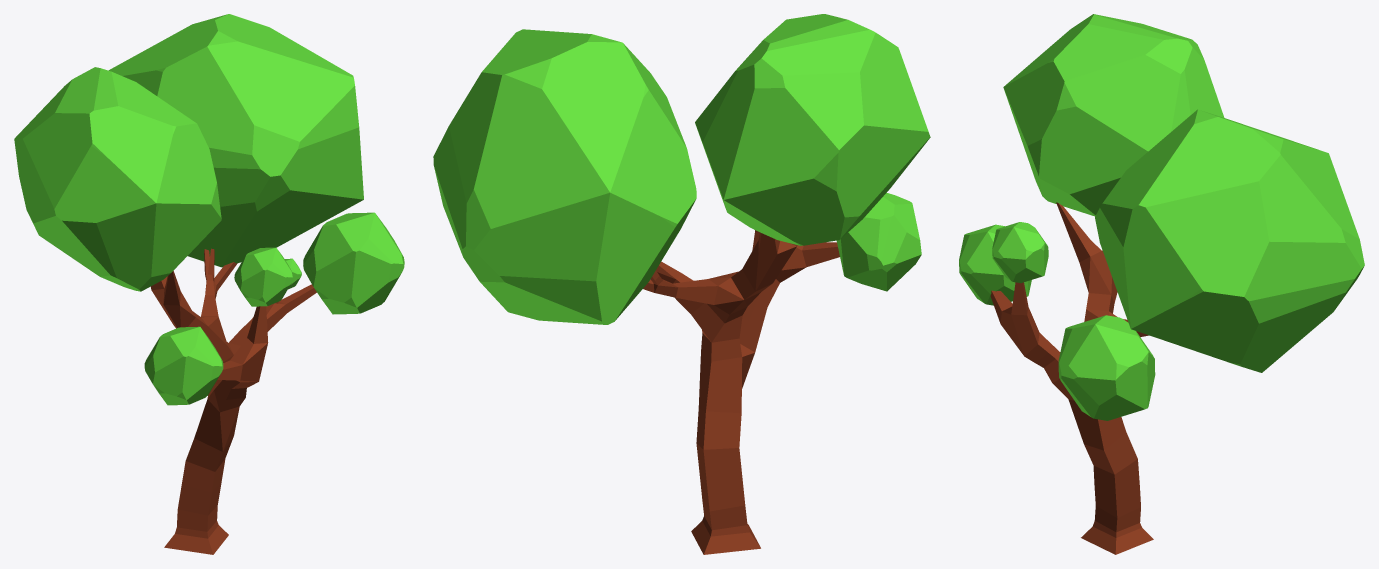
Rendered from Tree.fbx.
3 views of the same model, side by side, from view 1: azimuth 30°, elevation 25°; view 2: azimuth 150°, elevation 25°; view 3: azimuth 270°, elevation 25° (orthographic). The views are drawn at different scales.
Visible parts, largest first — view 1: Vert; view 2: Vert; view 3: Vert.
Boxes of the visible parts, bbox=[...] form: Vert: bbox=[14, 14, 404, 554]; Vert: bbox=[433, 14, 930, 554]; Vert: bbox=[959, 14, 1364, 554].
Size of the model in its own units: 338 by 425 by 333.
